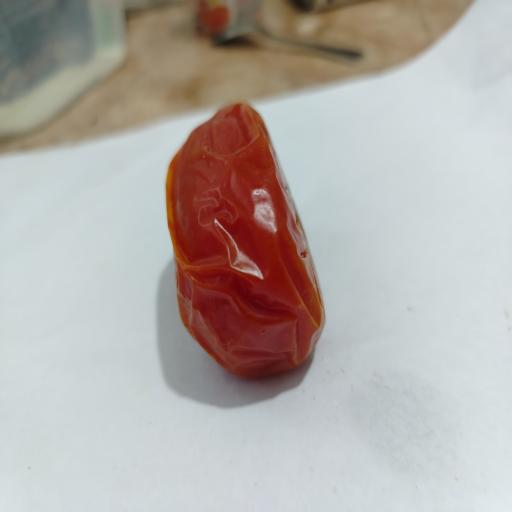spoiled: (166, 104, 325, 376)
